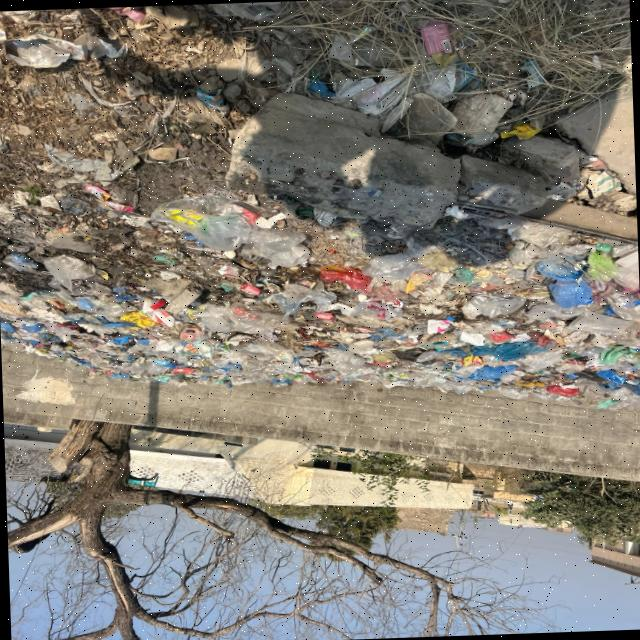garbage: (0, 192, 323, 391), (324, 230, 638, 415)
